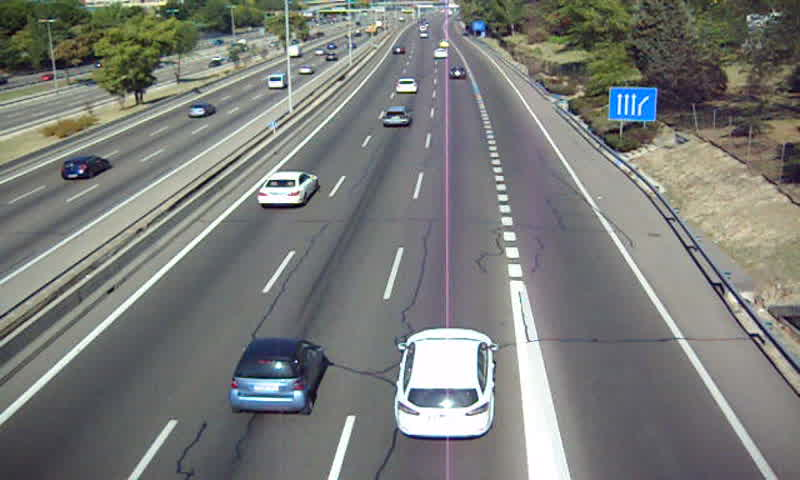car: (394, 328, 495, 440), (228, 340, 328, 417), (254, 171, 318, 208), (380, 106, 412, 127), (394, 77, 419, 94), (448, 66, 467, 79)
